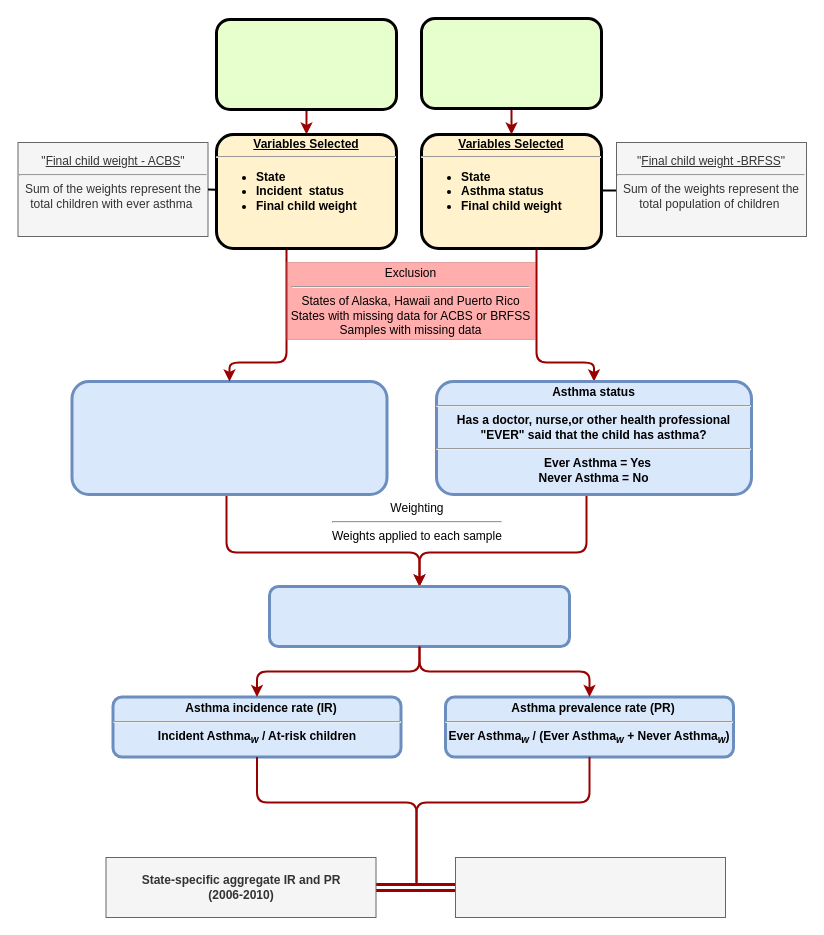
Some shapes in this 824 by 935 pixel diagram are drawn without their labels. The shapes that lost their labels are listed below. From the top down, each one's centre as x and y in pixels, then its label:
(x=306, y=64): Asthma Call Back Survey "ACBS" (2006-2010)
(x=511, y=63): Behavioural Risk Factor Surveillance Survey "BRFSS" (2006-2010)
(x=229, y=438): Incident status How long was that? Incident Asthma = (Within the past 12 months)
(x=419, y=616): At-risk children Incident Asthma weighted(w) + Never Asthma w
(x=590, y=887): Aggregate IR and PR (2006-2010)
